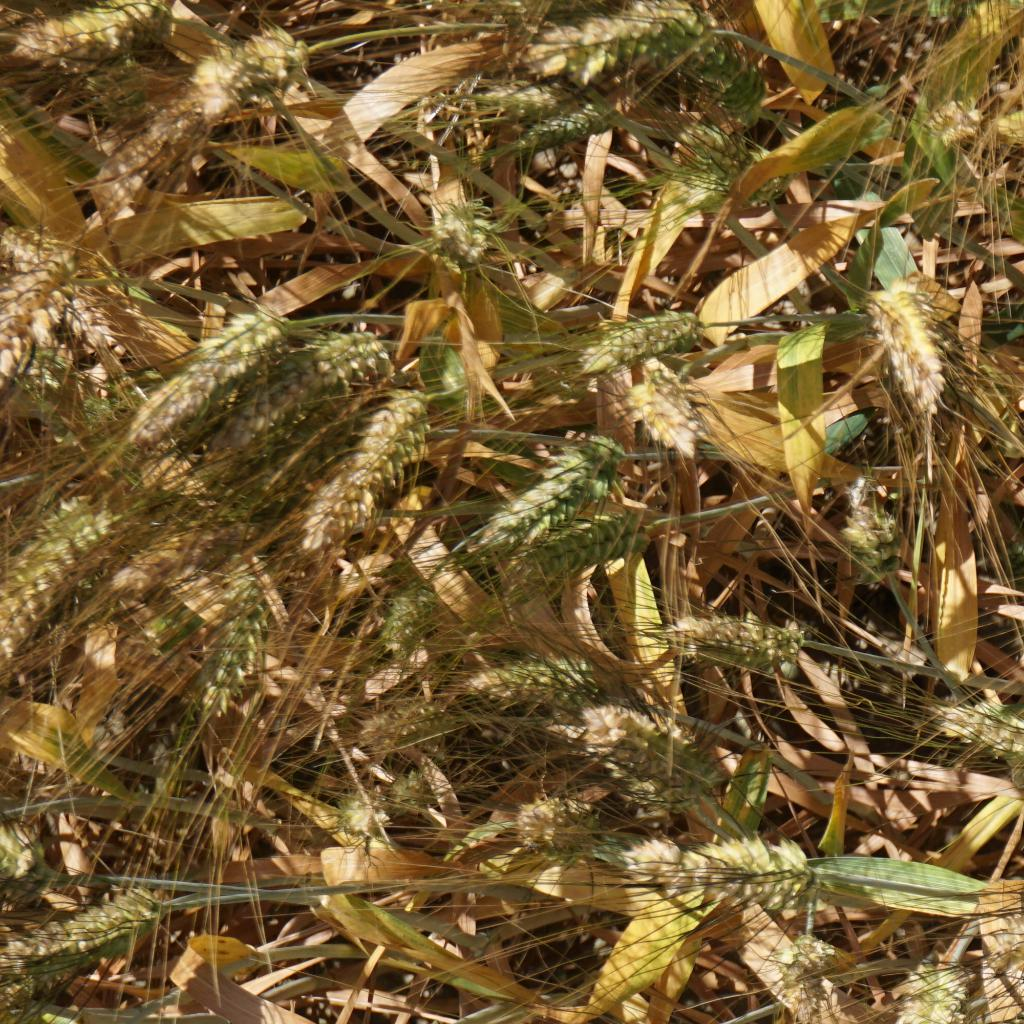0-0: (173, 327, 405, 478), (102, 481, 342, 603), (297, 391, 417, 535), (82, 91, 232, 205), (47, 15, 174, 148), (866, 263, 968, 427), (562, 718, 712, 822), (9, 224, 132, 348), (116, 303, 234, 425), (2, 466, 86, 624), (490, 496, 661, 572), (653, 596, 819, 669), (620, 830, 811, 893), (555, 291, 707, 362), (470, 69, 624, 136), (565, 693, 697, 770), (195, 579, 275, 702), (468, 637, 618, 702), (190, 37, 323, 110), (4, 900, 171, 958), (674, 31, 779, 123), (671, 125, 783, 208), (0, 4, 159, 62), (549, 11, 700, 70), (764, 928, 851, 1024), (484, 454, 608, 519), (929, 695, 1024, 777), (504, 816, 612, 885), (350, 695, 474, 752), (628, 368, 714, 449), (518, 84, 614, 147), (374, 572, 446, 653), (325, 782, 408, 852), (0, 270, 55, 372), (840, 480, 903, 567), (915, 90, 998, 156), (425, 188, 496, 265), (979, 877, 1024, 992), (888, 958, 966, 1024), (505, 775, 586, 838), (0, 811, 49, 891), (378, 773, 446, 827), (990, 1002, 1024, 1024)
